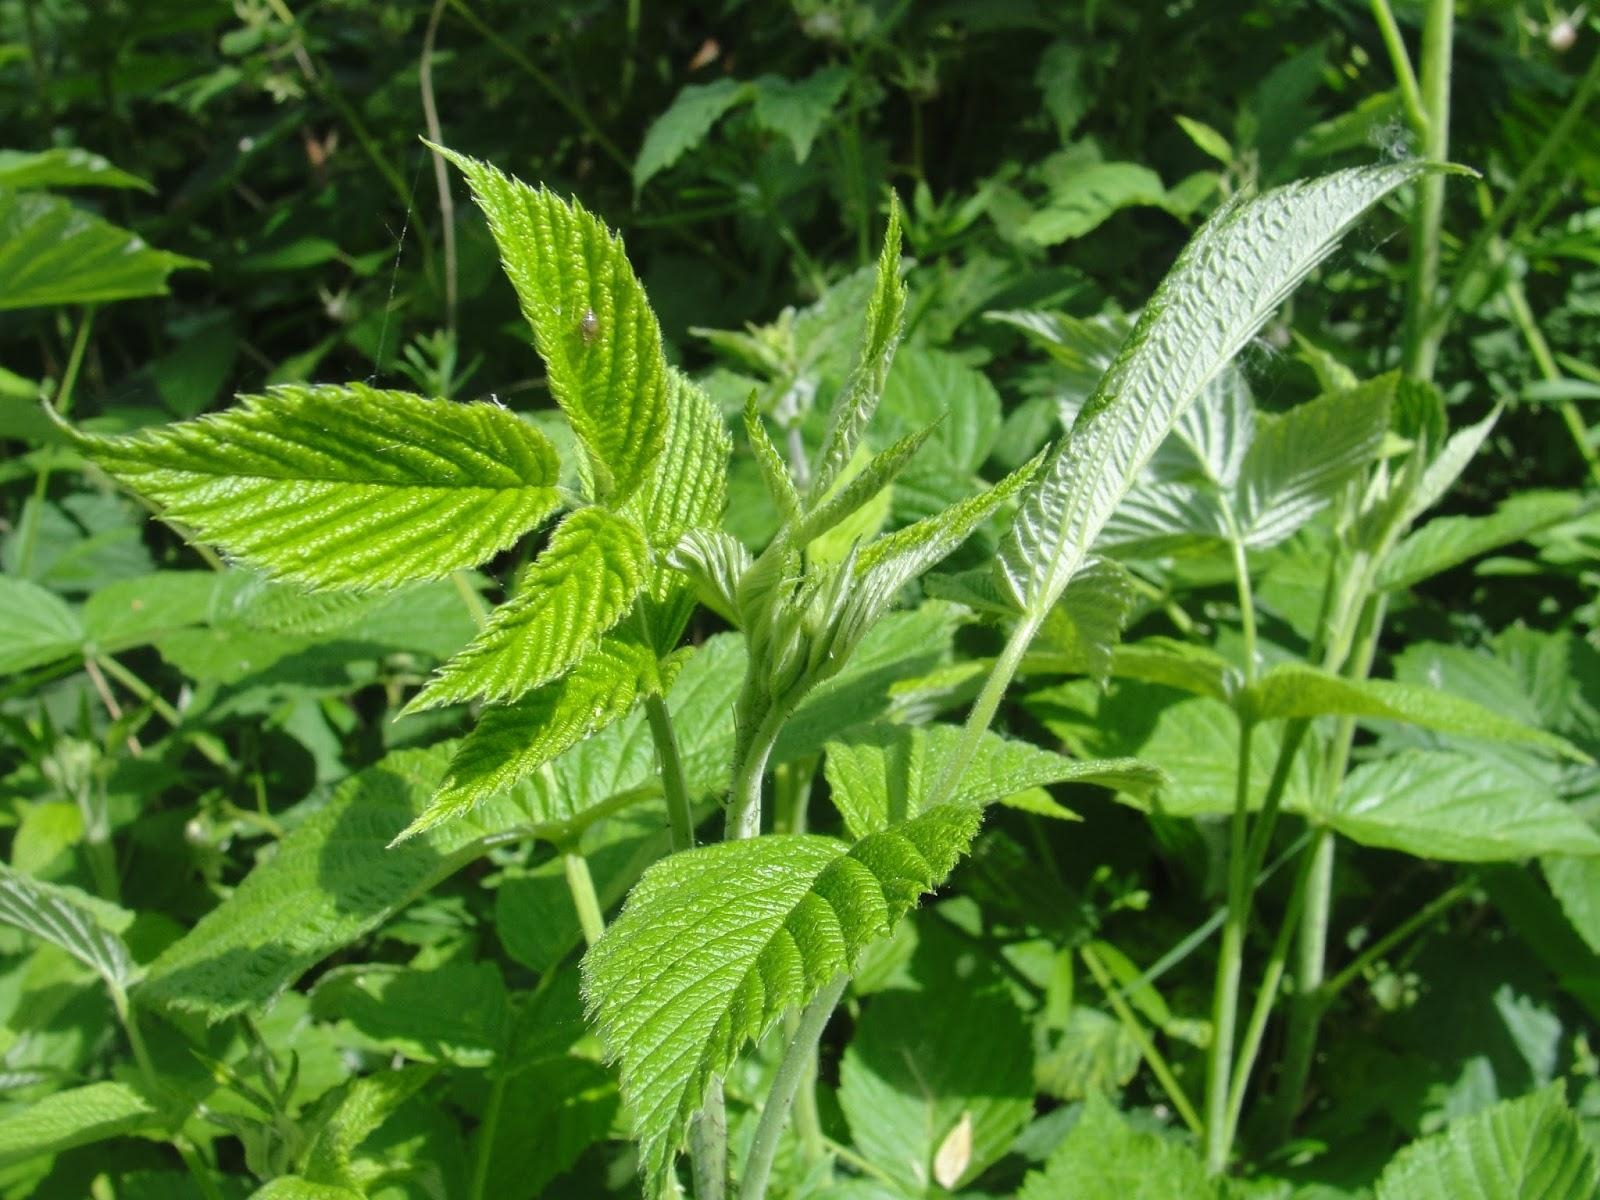Raspberry leaf: (569, 782, 1010, 1200), (5, 371, 554, 589), (411, 124, 690, 526), (375, 640, 674, 843), (403, 499, 666, 718)
